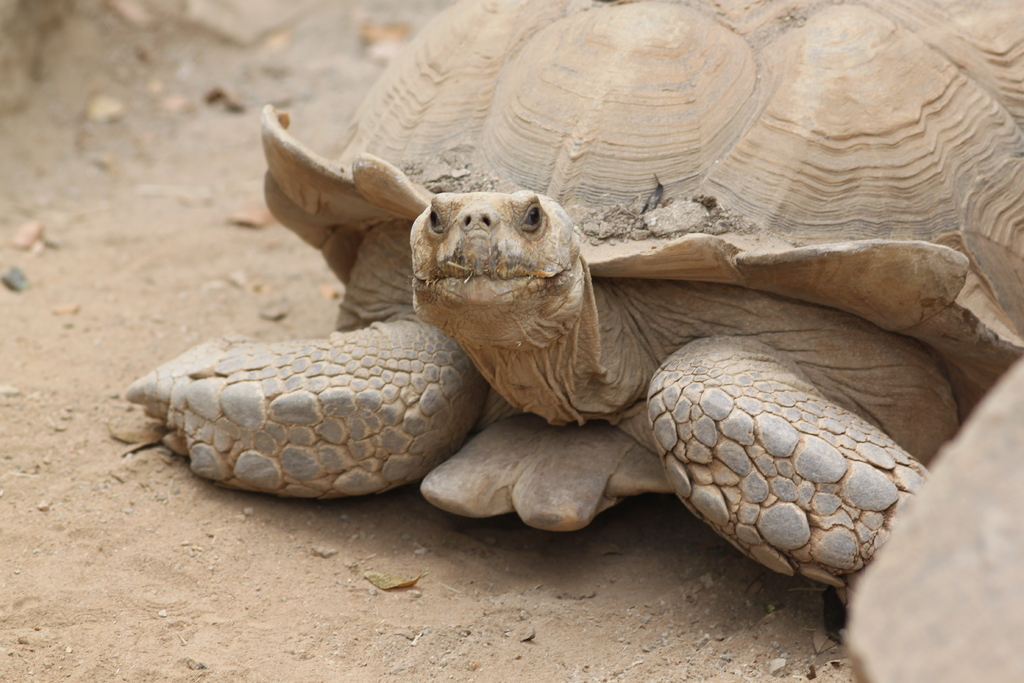Sea turtles: (124, 0, 1023, 593)
